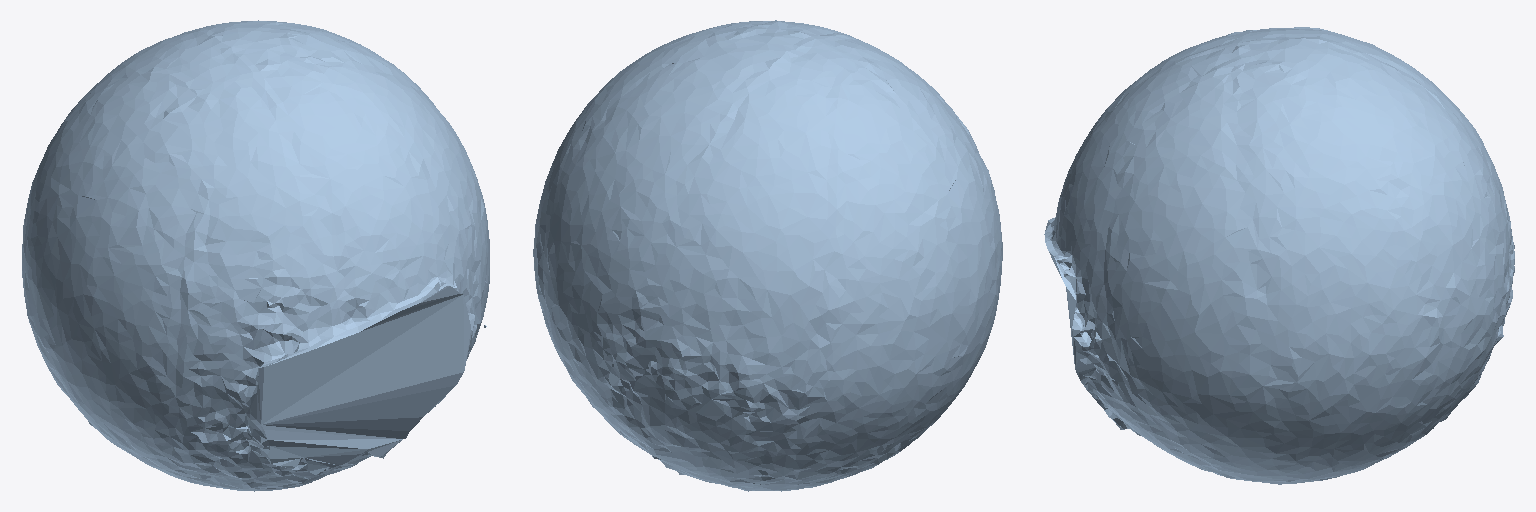
The robot description file, URDF, robot "basketball.urdf":
<?xml version="1.0" ?>
<robot name="basketball.urdf">
  <dynamics damping="0.5" friction="0.9"/>
  <link name="baseLink">
    <contact>
      <lateral_friction value="0.9"/>
      <rolling_friction value="0.5"/>
      <stiffness value="30000"/>
      <damping value="1000"/>
    </contact>
    <visual>
      <origin rpy="0 0 0" xyz="0 0 0"/>
      <geometry>
        <mesh filename="objects/basketball/basketball.obj" scale="1.0 1.0 1.0"/>
      </geometry>
       <material name="mat">
        <color rgba="0.7 0.8 0.9 1"/>
      </material>
    </visual>
    <collision>
      <origin rpy="0 0 0" xyz="0 0 0"/>
      <geometry>
         <mesh filename="objects/basketball/basketball.obj" scale="1.0 1.0 1.0"/>
      </geometry>
    </collision>
  </link>
</robot>

--- Render facts (derived) ---
The picture shows the robot from 3 angles, left to right: view 1: azimuth 30°, elevation 25°; view 2: azimuth 150°, elevation 25°; view 3: azimuth 270°, elevation 25°; orthographic projection.
Robot: basketball.urdf — 1 links, 0 joints (none); root link baseLink; default pose: all joints at 0.
Visible links, largest first — view 1: baseLink; view 2: baseLink; view 3: baseLink.
Link boxes in pixels (box(x1,y1,x2,y2)): baseLink: box(22, 20, 489, 491); baseLink: box(533, 20, 1002, 491); baseLink: box(1044, 27, 1514, 484).
Bounding box of the posed robot: 0.2413 × 0.2464 × 0.2407 m (x, y, z).
1 mesh visuals loaded from 1 distinct referenced files (1 OBJ).
